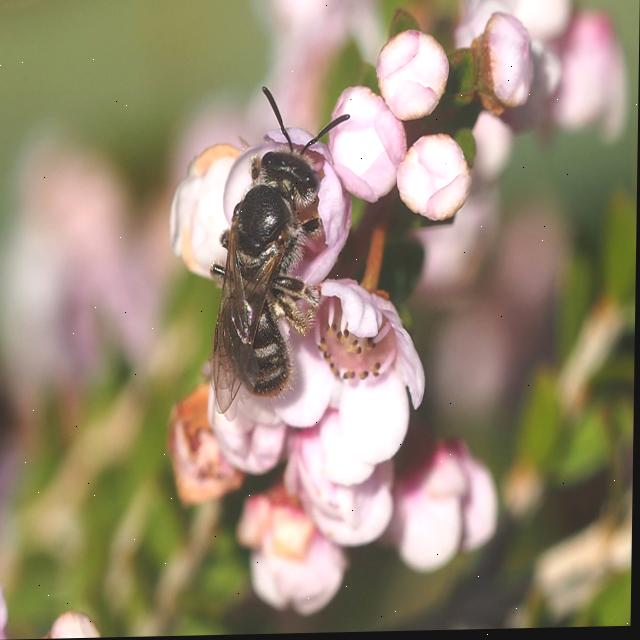Lasioglossum: (208, 78, 356, 416)
